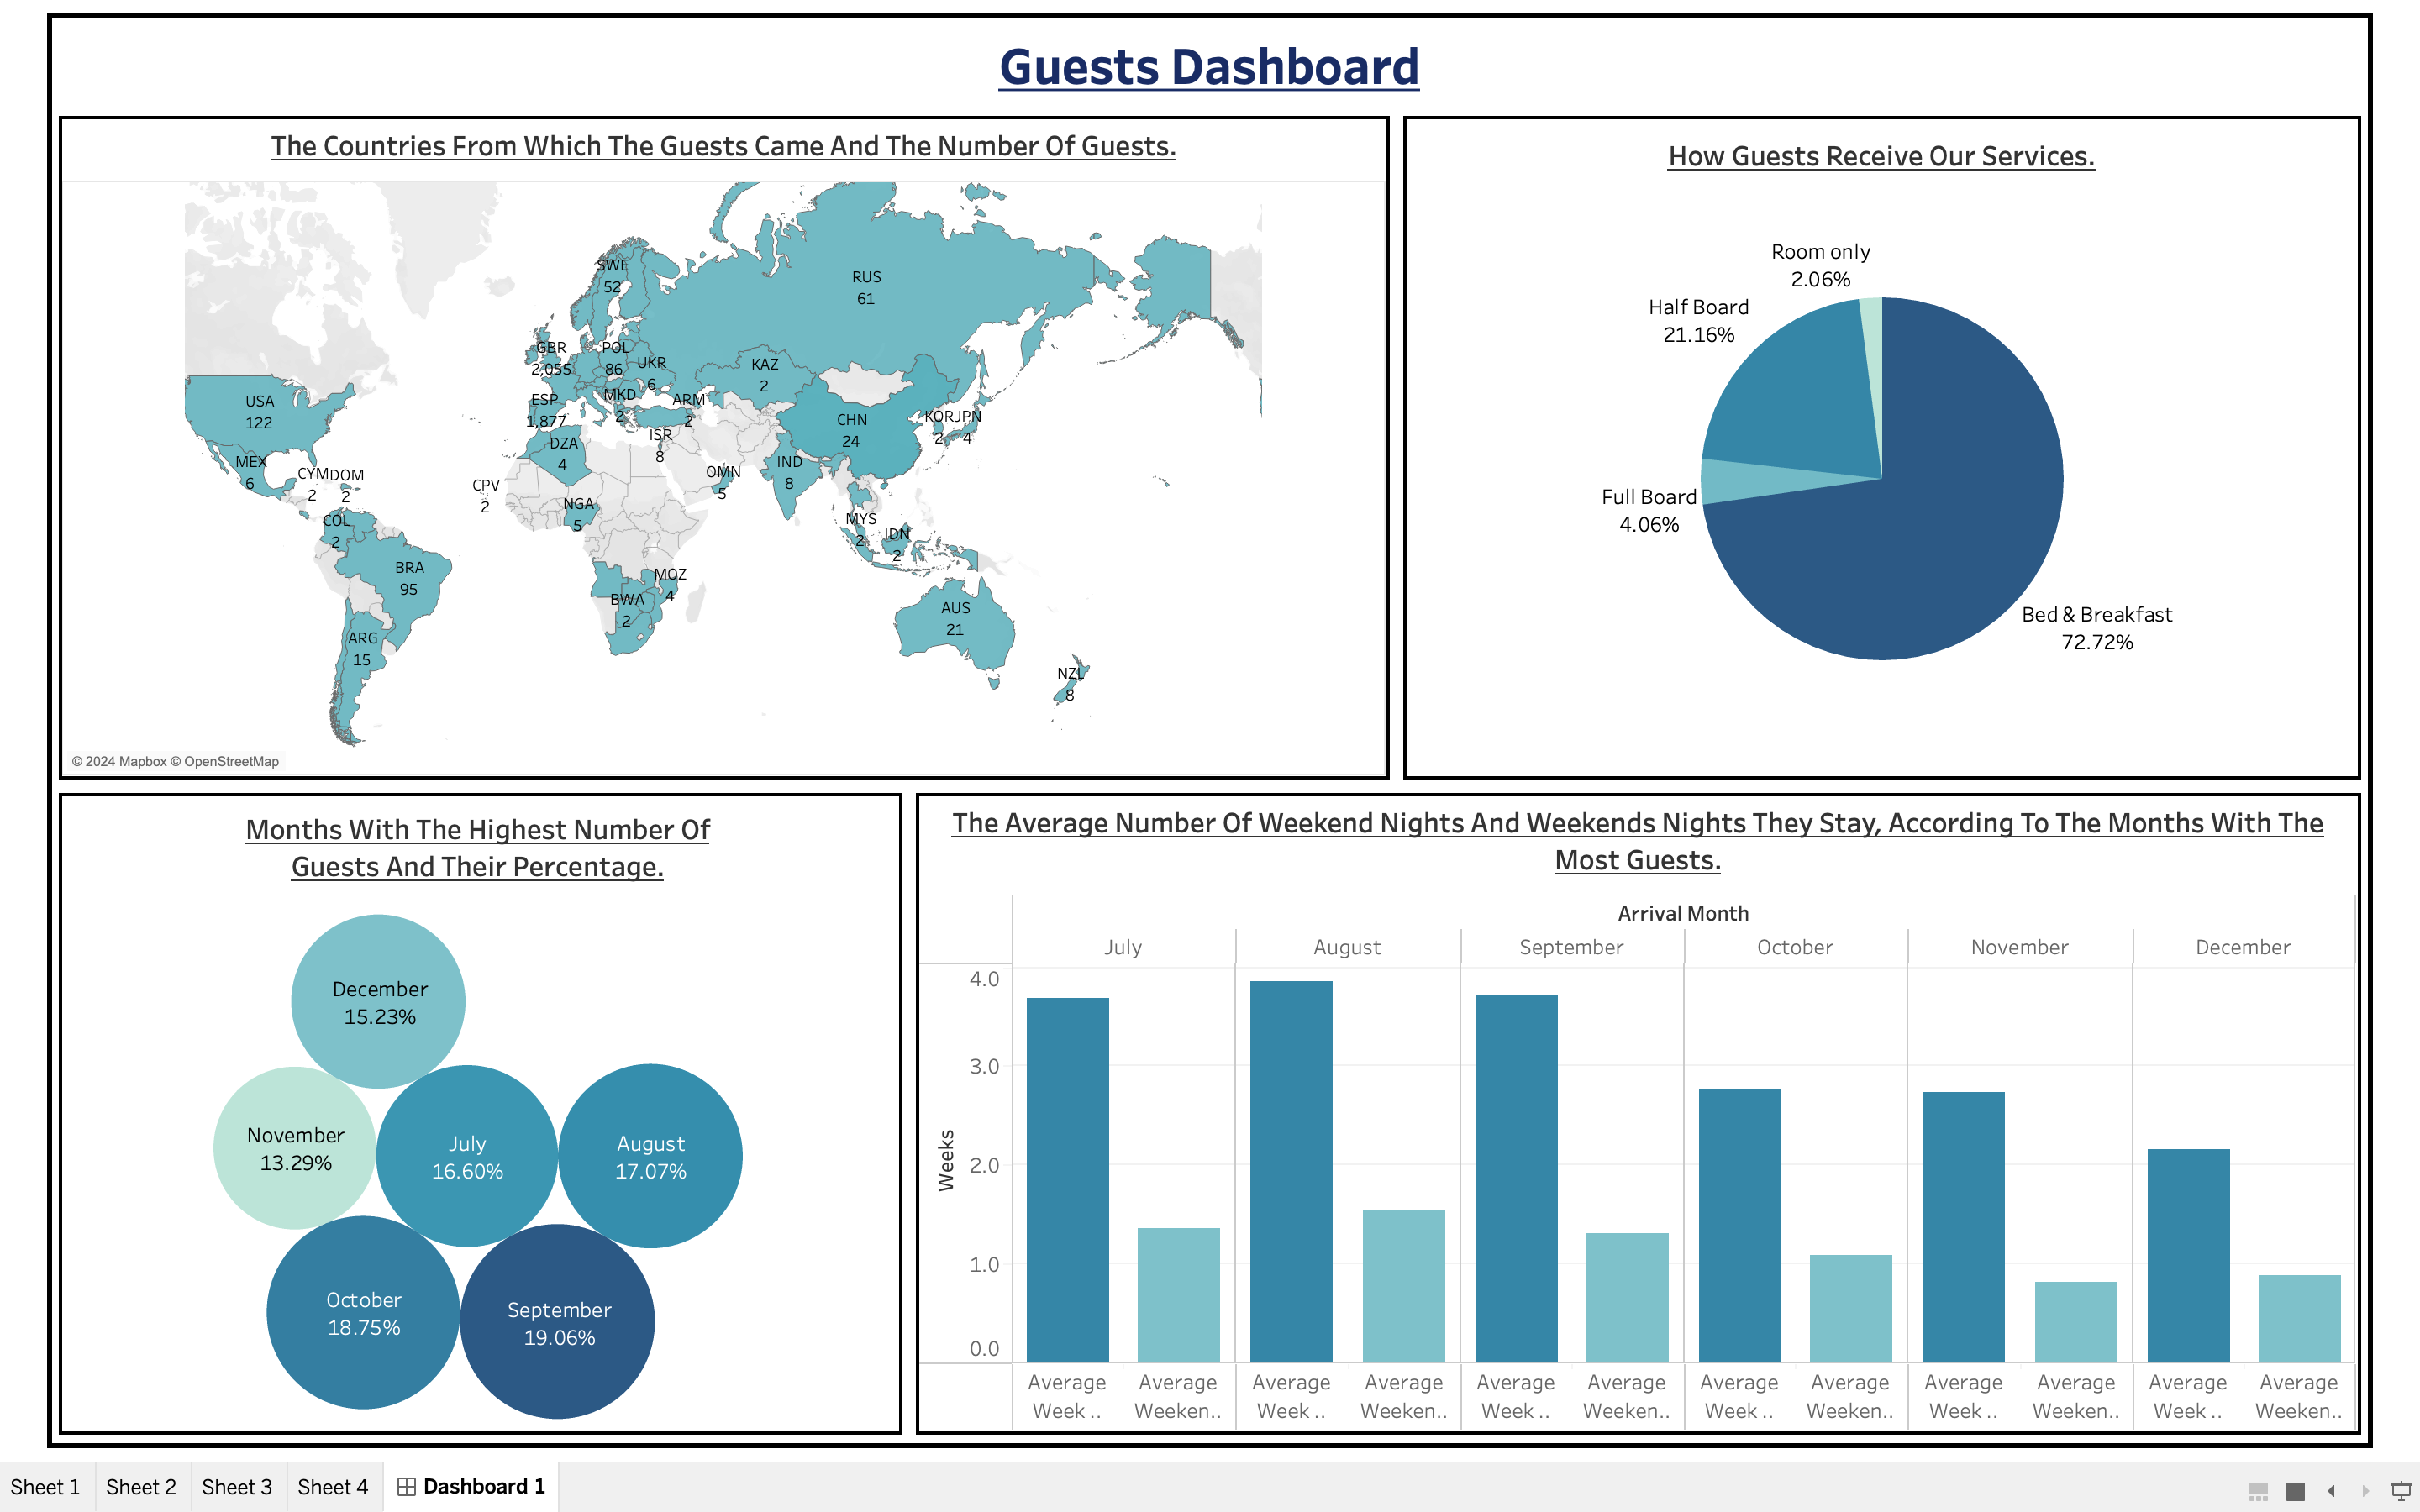

This screenshot's page, from the dashboard's own definition file:
{"tool":"tableau","page":{"name":"Dashboard 1","canvas":[1400,870],"ordinal":0},"visuals":[{"type":"text","box":[11,11,1378,54.1]},{"type":"worksheet","title":"Sheet 1","mark":"Multipolygon","box":[11,65.1,799.6,403.4]},{"type":"worksheet","title":"Sheet 2","mark":"Pie","box":[810.6,65.1,578.4,403.4]},{"type":"worksheet","title":"Sheet 4","mark":"Circle","box":[11,468.5,509.7,390.5]},{"type":"worksheet","title":"Sheet 3","mark":"Automatic","cols":["arrival_date_month"],"box":[520.7,468.5,868.3,390.5]}]}

Visuals, with their boxes in screenshot pixels (x1, y1, x2, y2):
text: x1=38 y1=6 x2=2386 y2=98
"Sheet 1" worksheet (Multipolygon marks): x1=38 y1=98 x2=1401 y2=785
"Sheet 2" worksheet (Pie marks): x1=1401 y1=98 x2=2386 y2=785
"Sheet 4" worksheet (Circle marks): x1=38 y1=785 x2=907 y2=1452
"Sheet 3" worksheet: x1=907 y1=785 x2=2386 y2=1452
